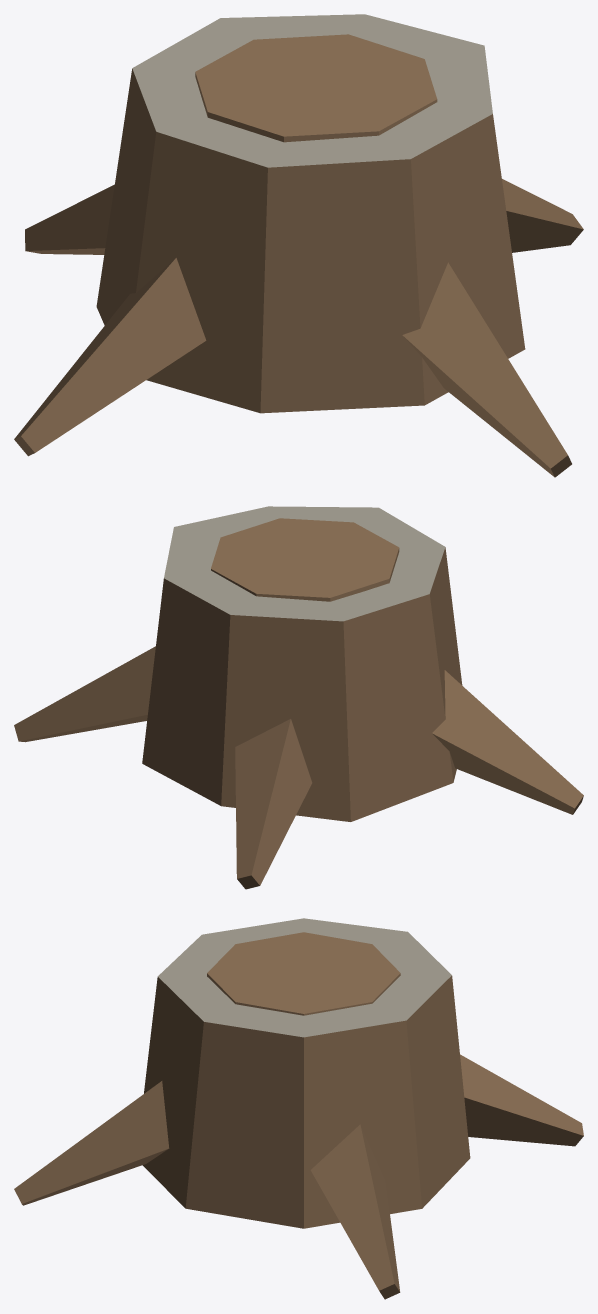
The model's file is stump.glb.
3 renders of one model, top to bottom at view 1: azimuth 30°, elevation 25°; view 2: azimuth 150°, elevation 25°; view 3: azimuth 270°, elevation 25°, orthographic. The views are drawn at different scales.
Visible parts, largest first — view 1: stump; view 2: stump; view 3: stump.
Boxes of the visible parts, x1,y1,x2,y2 form: stump: (14, 14, 583, 477); stump: (14, 506, 583, 889); stump: (14, 918, 583, 1299).
Bounding box in the file's own units: 1.42 × 0.5777 × 1.41.
